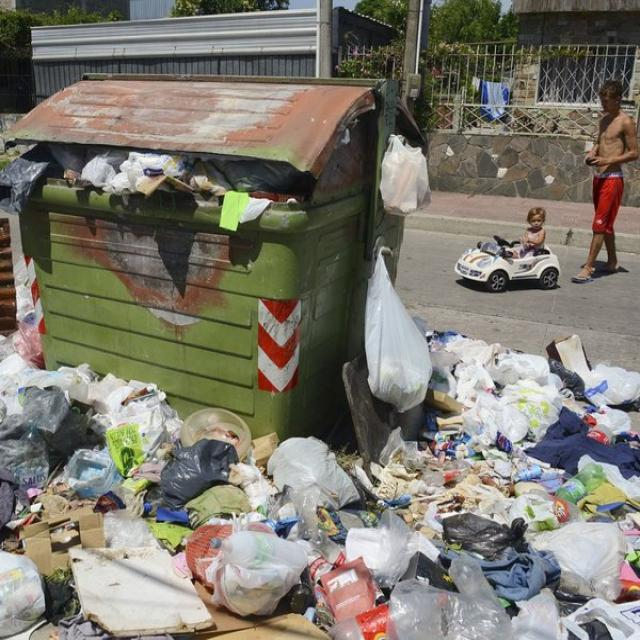garbage: (2, 349, 638, 639), (355, 243, 428, 424), (14, 146, 242, 189), (383, 133, 431, 215)
